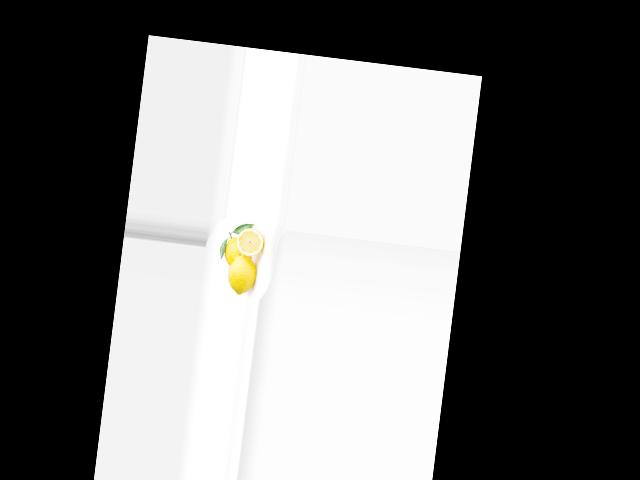lemon: (221, 232, 252, 269)
